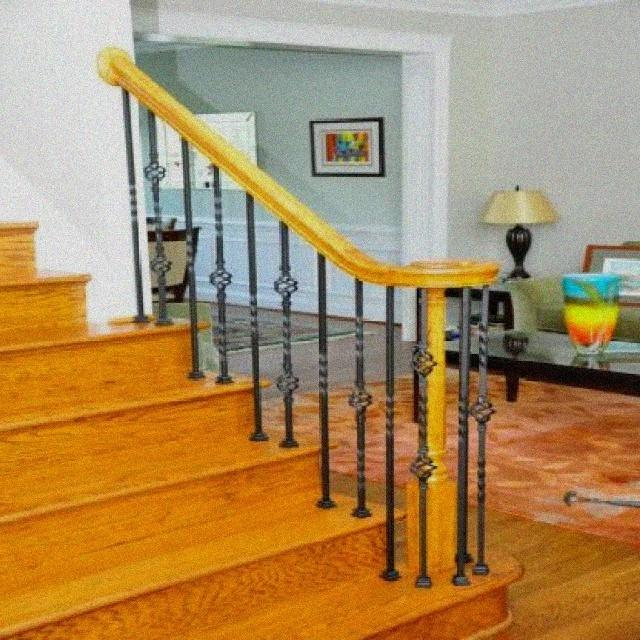stair: (1, 218, 524, 640)
